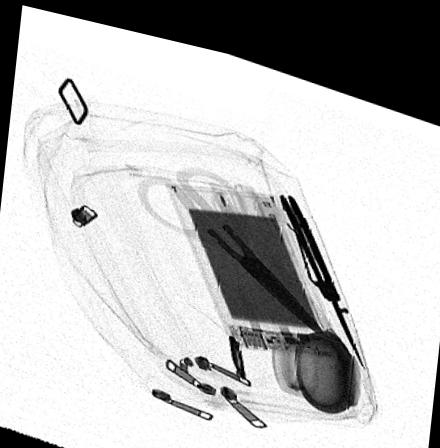Knife: (279, 179, 371, 354)
Powerbank: (163, 174, 347, 343)
Scissors: (135, 157, 331, 323)
